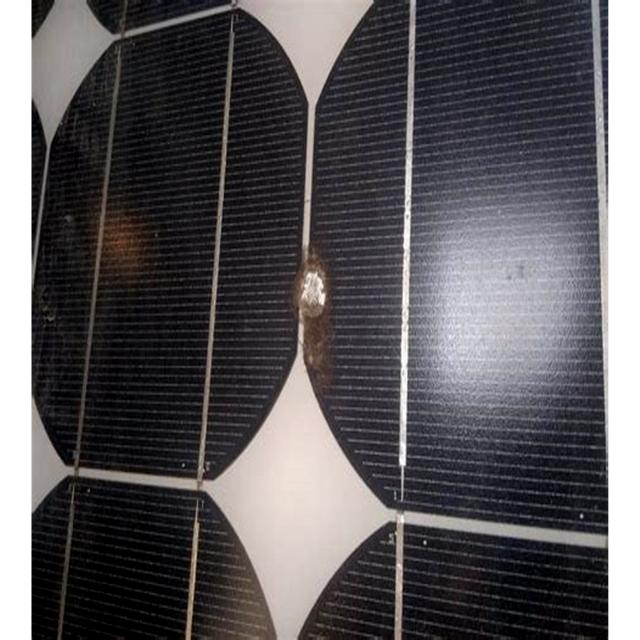shadow: (285, 218, 360, 404), (84, 192, 148, 302)
